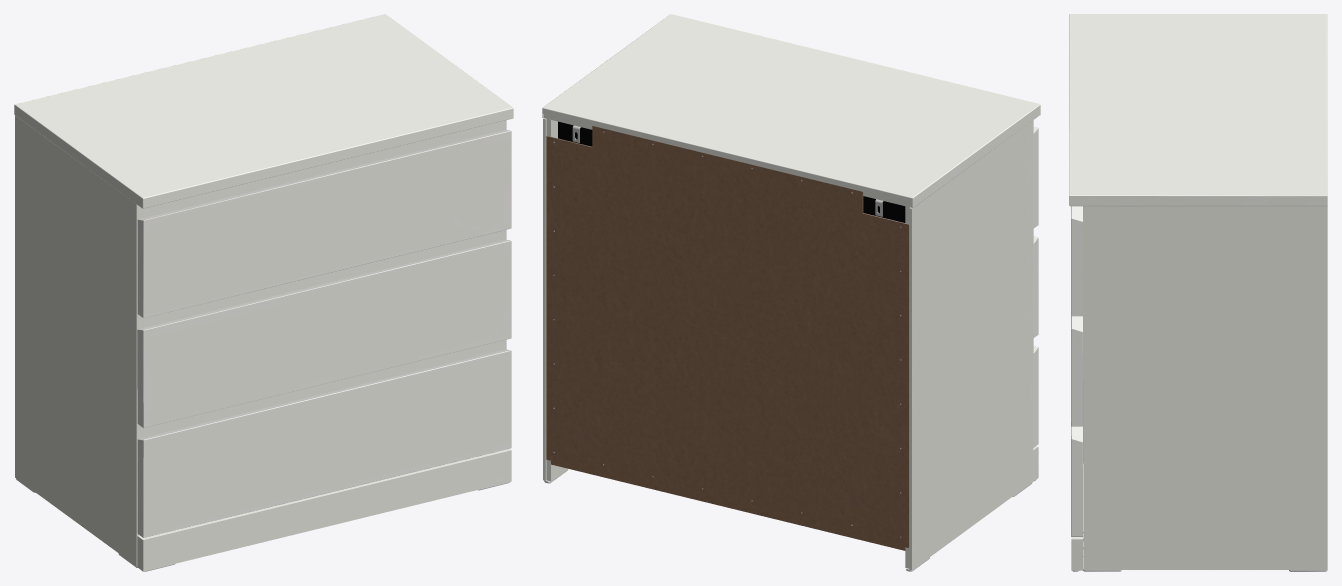
File: DeskTable.glb
The picture shows the model from 3 angles, left to right: view 1: azimuth 30°, elevation 25°; view 2: azimuth 150°, elevation 25°; view 3: azimuth 270°, elevation 25°; orthographic projection.
Visible parts, largest first — view 1: 90354643-MALM001; view 2: 90354643-MALM001; view 3: 90354643-MALM001.
Part boxes in pixels (x1=…): 90354643-MALM001: x1=14, y1=14, x2=513, y2=571; 90354643-MALM001: x1=542, y1=14, x2=1040, y2=571; 90354643-MALM001: x1=1069, y1=14, x2=1327, y2=571.
Bounding box in the file's own units: 0.803 × 0.7765 × 0.4823.
Materials: 1 (1 with a texture image).
